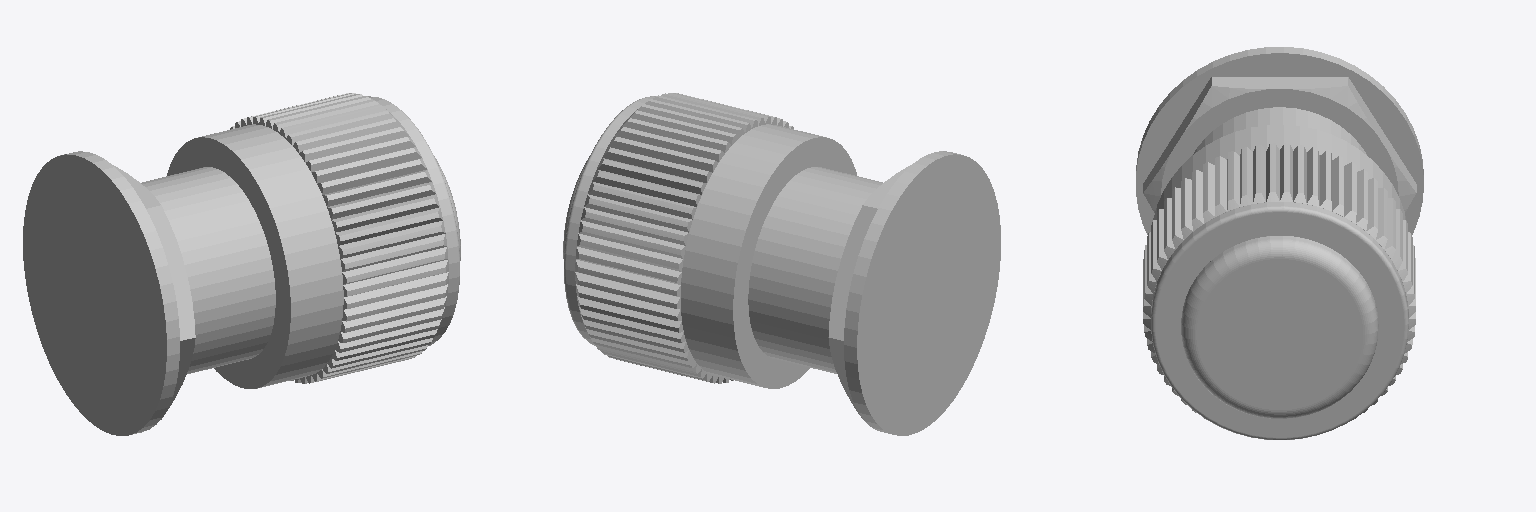
The picture shows the model from 3 angles: view 1: azimuth 30°, elevation 25°; view 2: azimuth 150°, elevation 25°; view 3: azimuth 270°, elevation 25°; orthographic projection.
Visible parts, largest first — view 1: box_button_top (Meshed), ring (Meshed), box_button_ring (Meshed), screew (Meshed); view 2: box_button_top (Meshed), ring (Meshed), box_button_ring (Meshed), screew (Meshed); view 3: transparent_button (Meshed), box_button_top (Meshed), box_button_ring (Meshed), screew (Meshed), ring (Meshed), press to test (Meshed).
Part boxes in pixels (x1,y1,x2,y2): box_button_top (Meshed): (141, 96, 459, 388); ring (Meshed): (23, 151, 179, 435); box_button_ring (Meshed): (230, 93, 448, 383); screew (Meshed): (113, 165, 195, 419); box_button_top (Meshed): (564, 96, 882, 388); ring (Meshed): (844, 151, 1000, 435); box_button_ring (Meshed): (575, 93, 793, 383); screew (Meshed): (828, 165, 910, 417); transparent_button (Meshed): (1181, 236, 1378, 418); box_button_top (Meshed): (1151, 107, 1408, 439); box_button_ring (Meshed): (1143, 143, 1415, 420); screew (Meshed): (1143, 77, 1416, 212); ring (Meshed): (1136, 47, 1423, 234); press to test (Meshed): (1190, 216, 1364, 436).
Size of the model in its own units: 24.5 by 18.99 by 18.98.